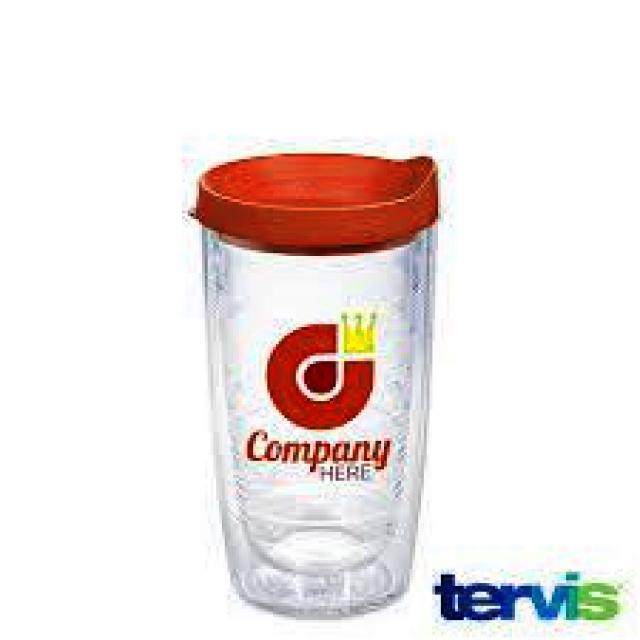bottle: (181, 142, 445, 623)
